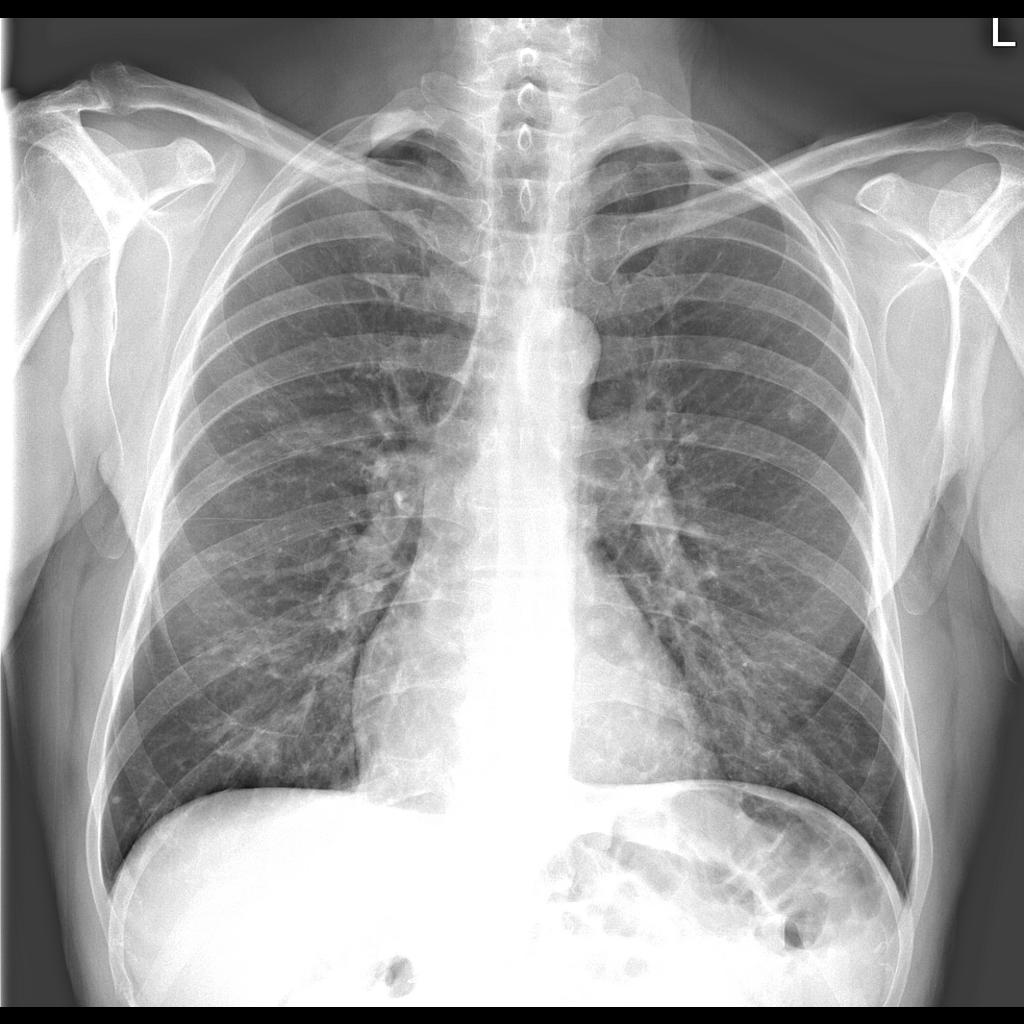Nodule: (852, 746, 883, 785)
